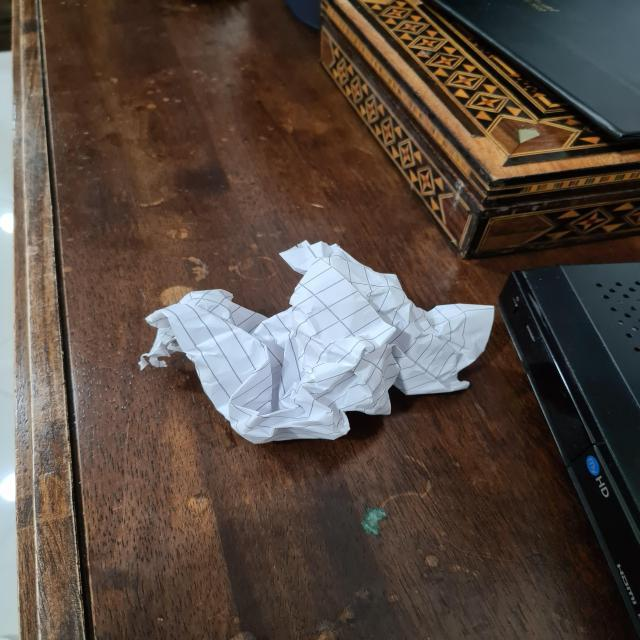trash: (138, 236, 496, 444)
